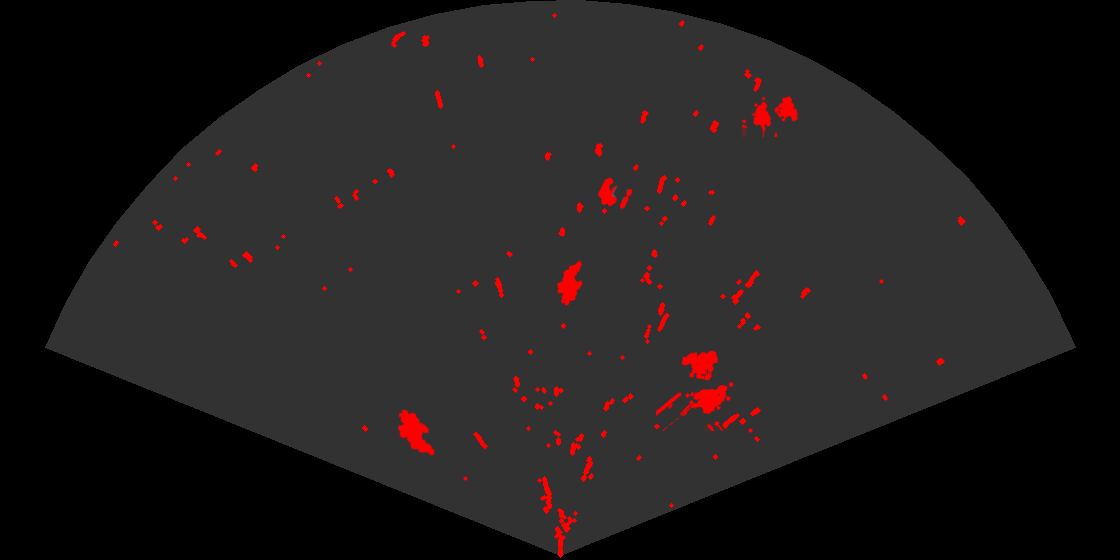AUV: (396, 408, 436, 457), (555, 259, 584, 307)
ball: (596, 176, 634, 211)
cage: (656, 349, 735, 431), (742, 94, 800, 137)
